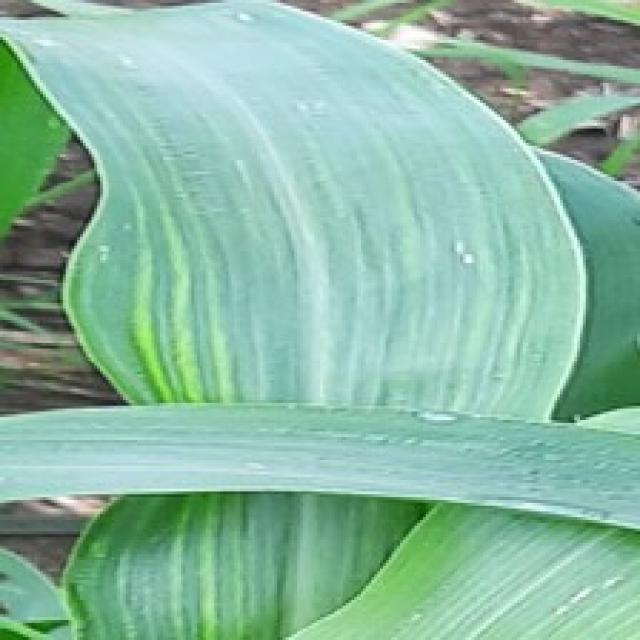Corn: (0, 0, 637, 637), (0, 394, 637, 549)
